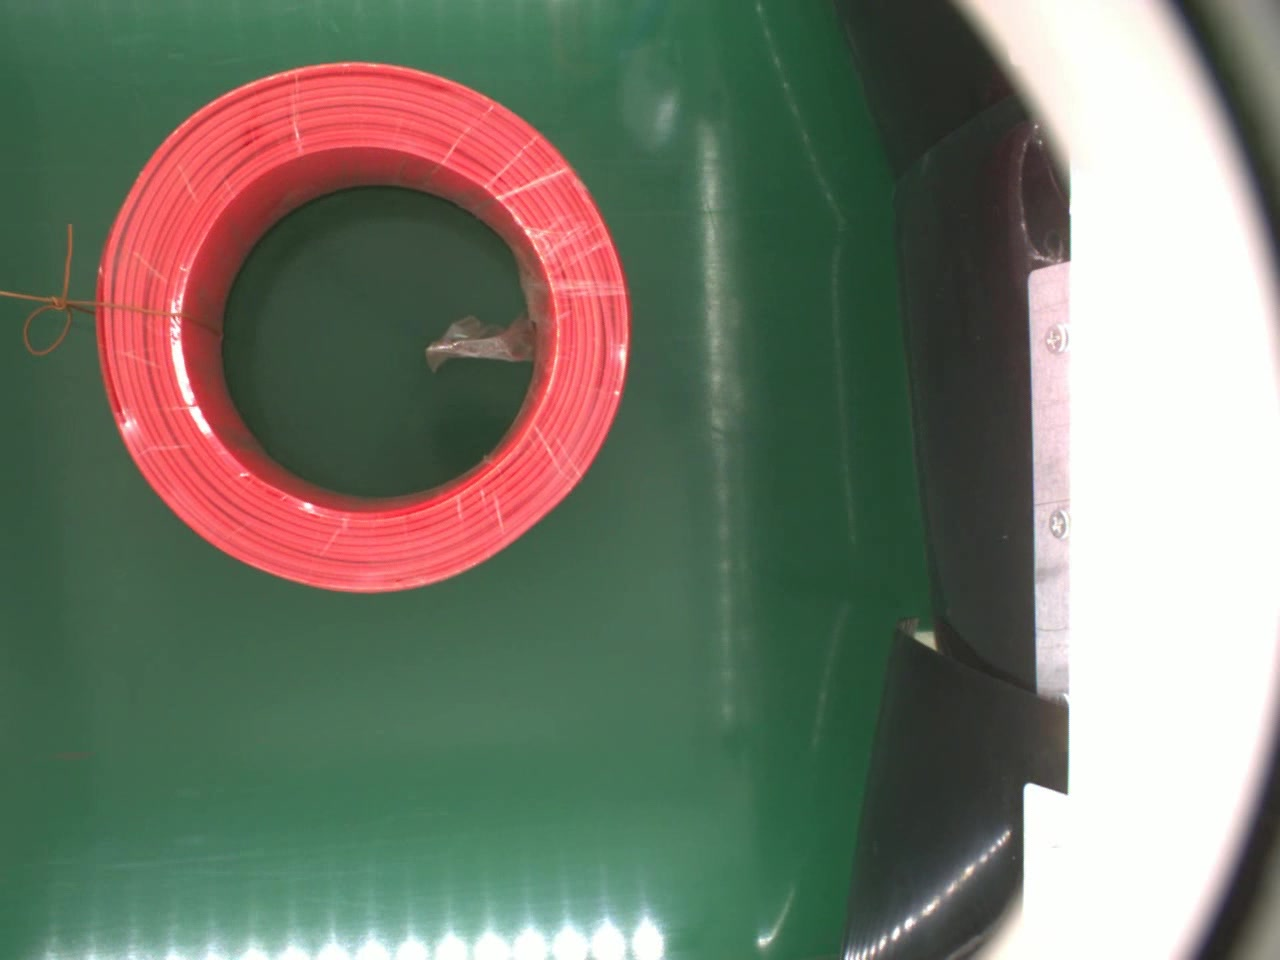red: (95, 58, 636, 592)
